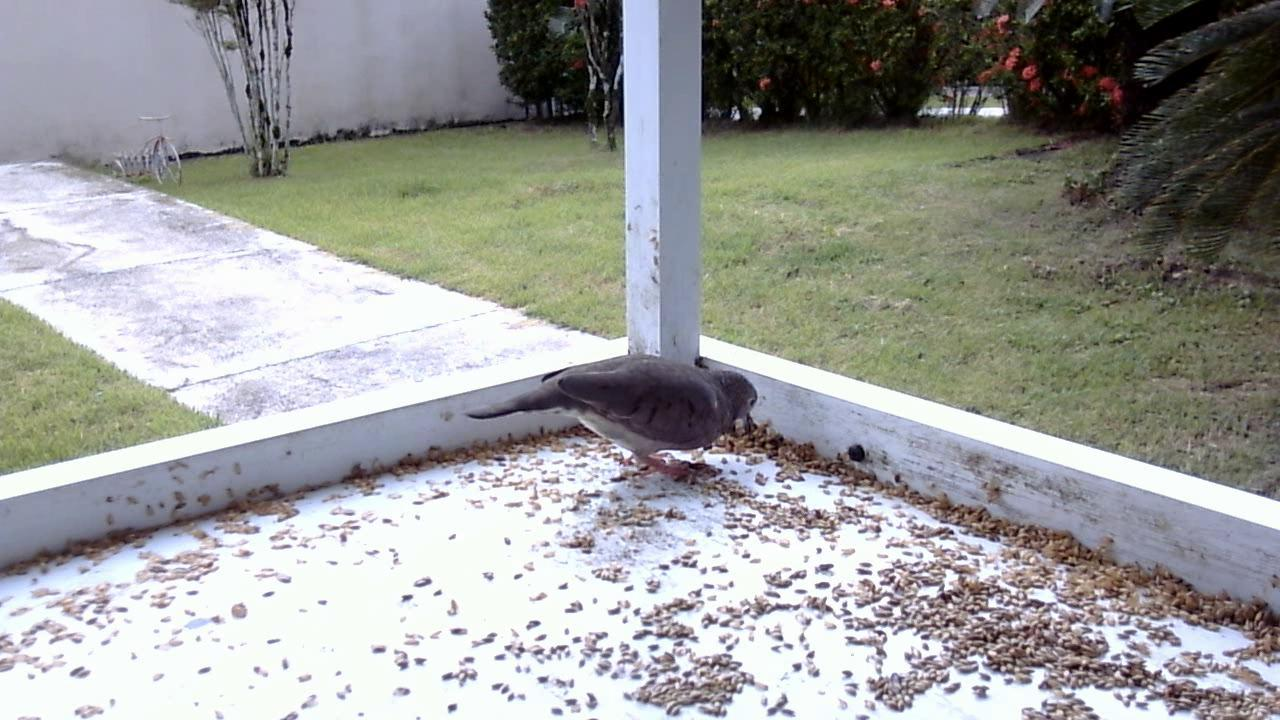rolinha: (457, 345, 762, 494)
